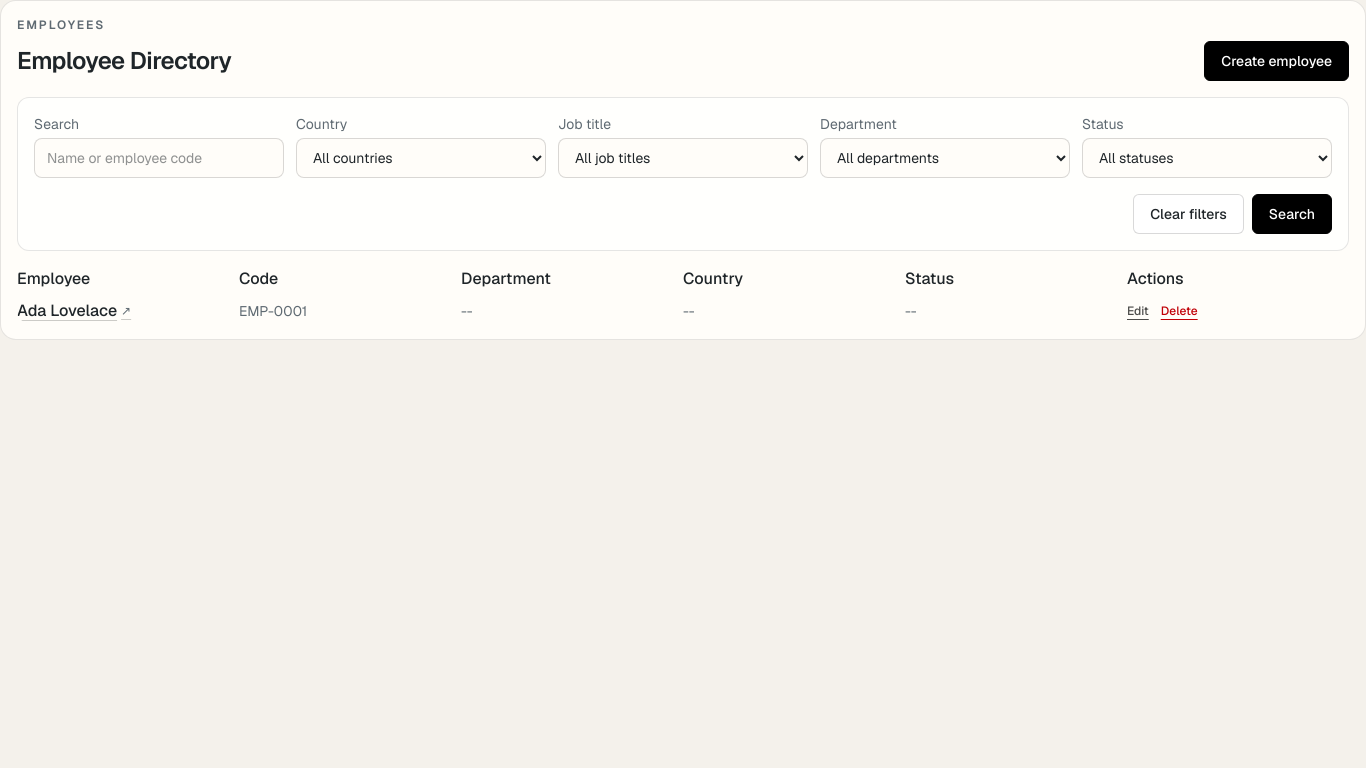
Test: Employees page › removes stale employee row and shows already-removed feedback when delete returns not-found
Click the button "Delete" at [1179, 311], box [1161,303,1198,319]
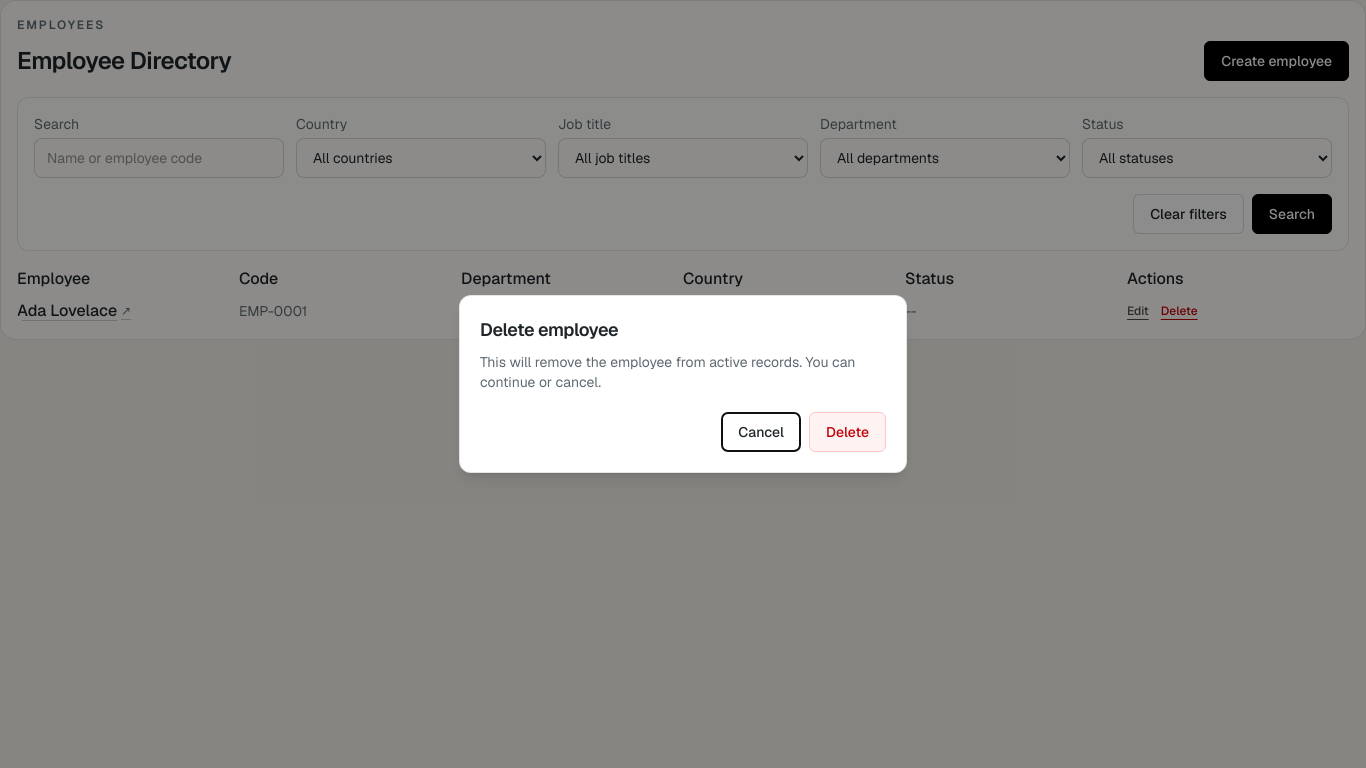
Click the button "Delete" at [847, 432], box [809,412,886,452]
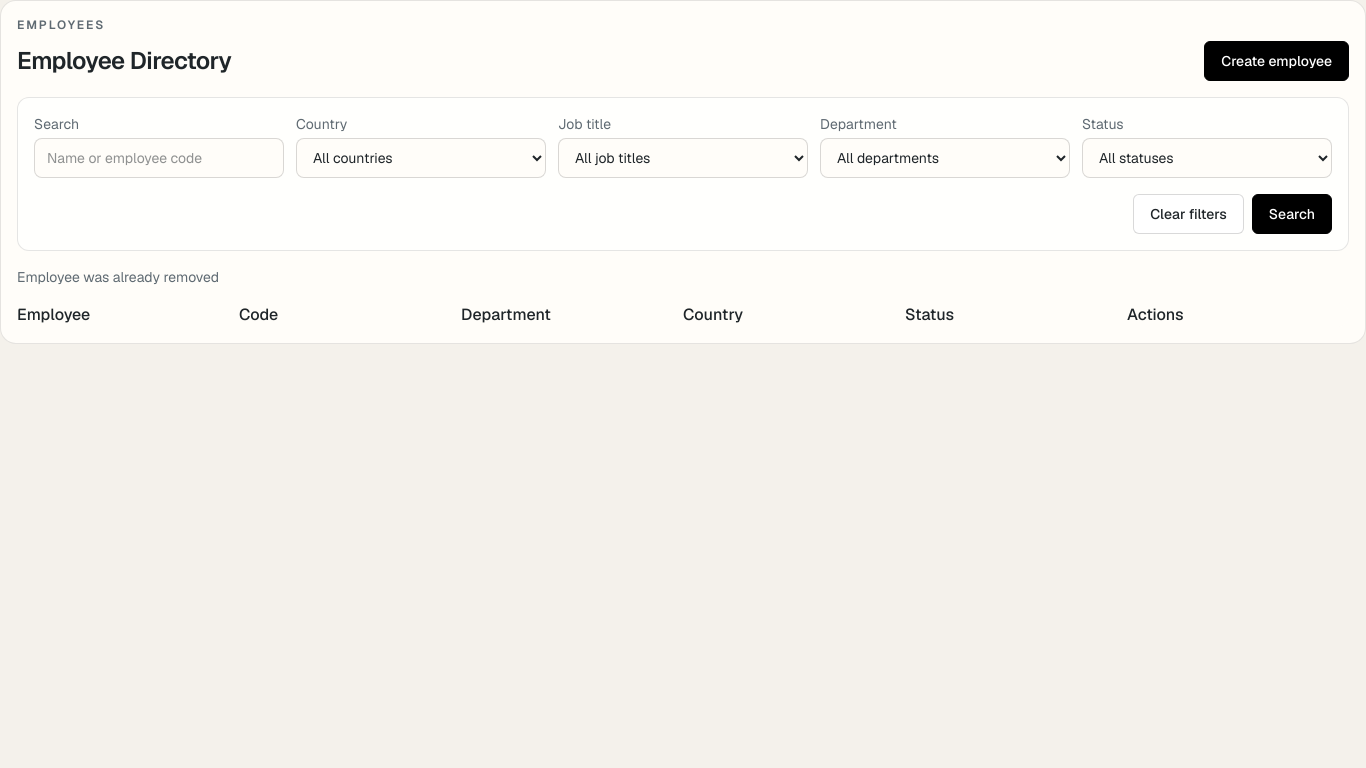
expect the link "Ada Lovelace" is gone: met
expect the text "Employee was already removed" is shown: met, box [17,268,219,286]
